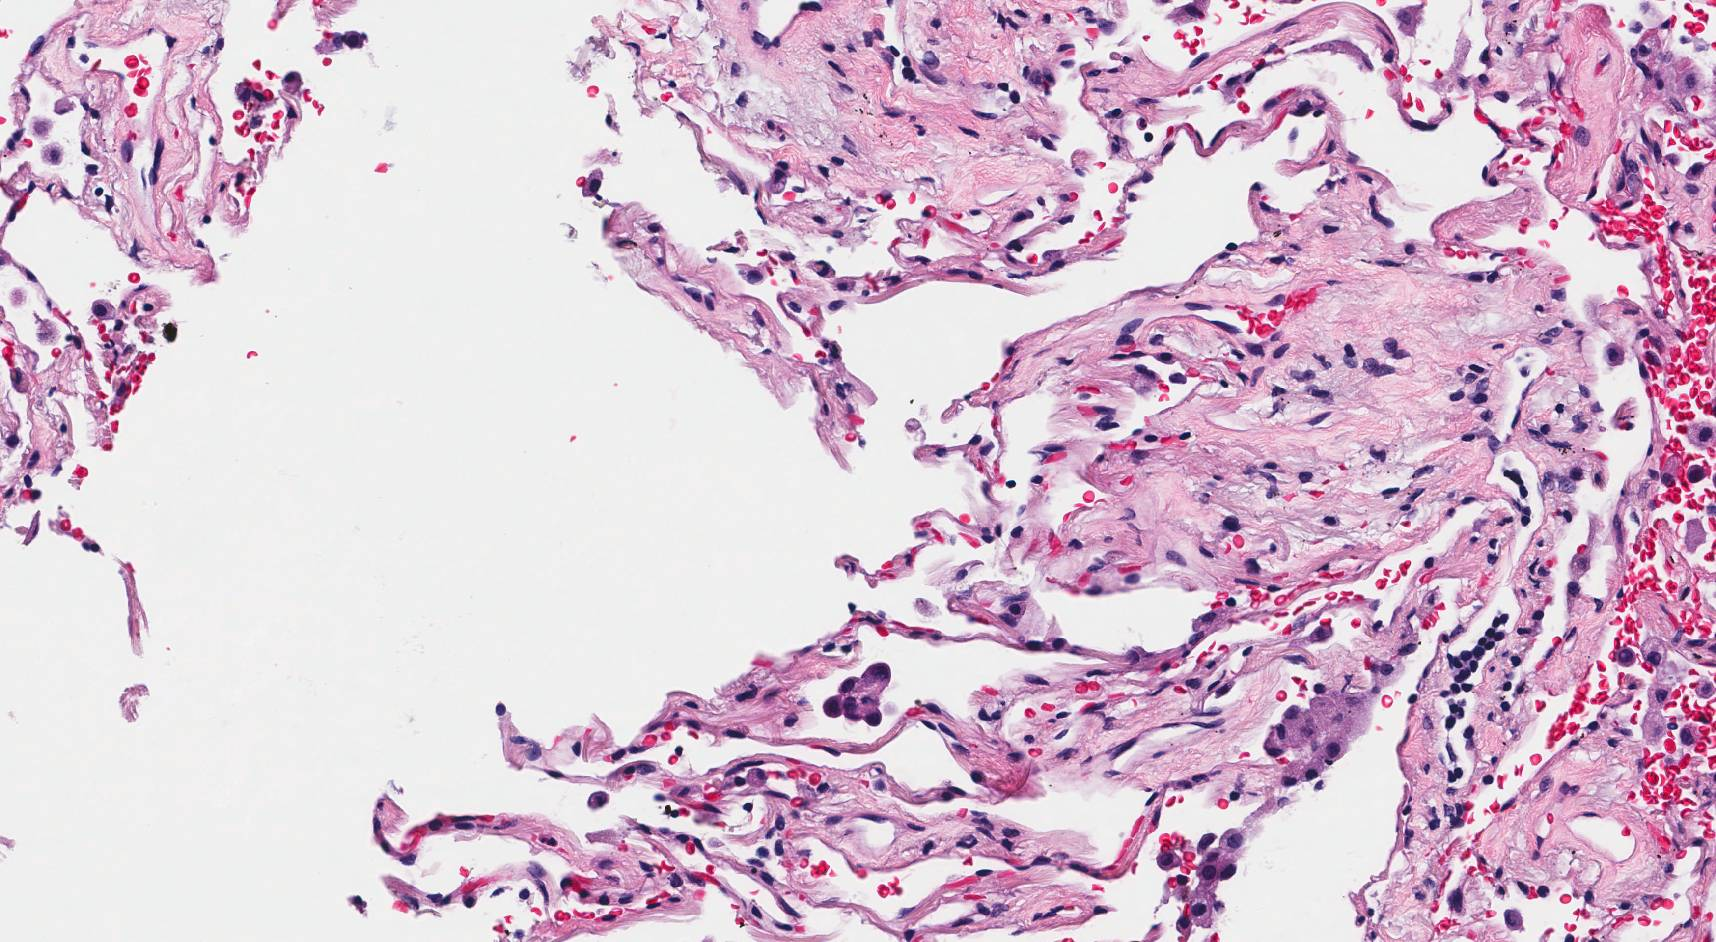stas: (822, 662, 893, 727)
